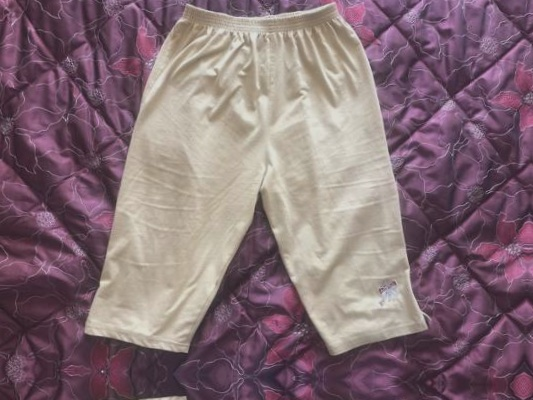Pants: (80, 2, 450, 362), (66, 393, 437, 400)
